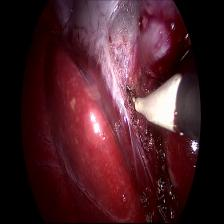Hook: (125, 68, 183, 132)
